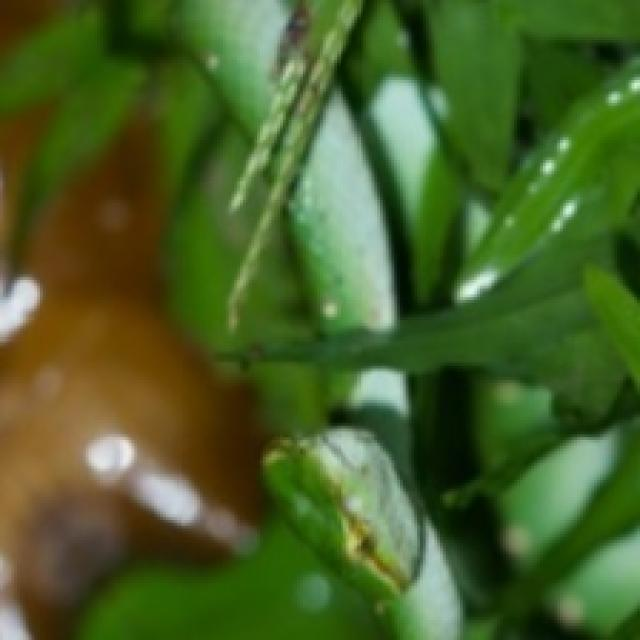north ph temple pitviper: (88, 0, 461, 639)
